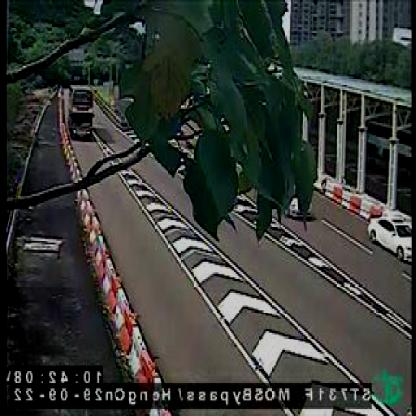Bus: (62, 80, 96, 137)
Car: (358, 211, 416, 259)
